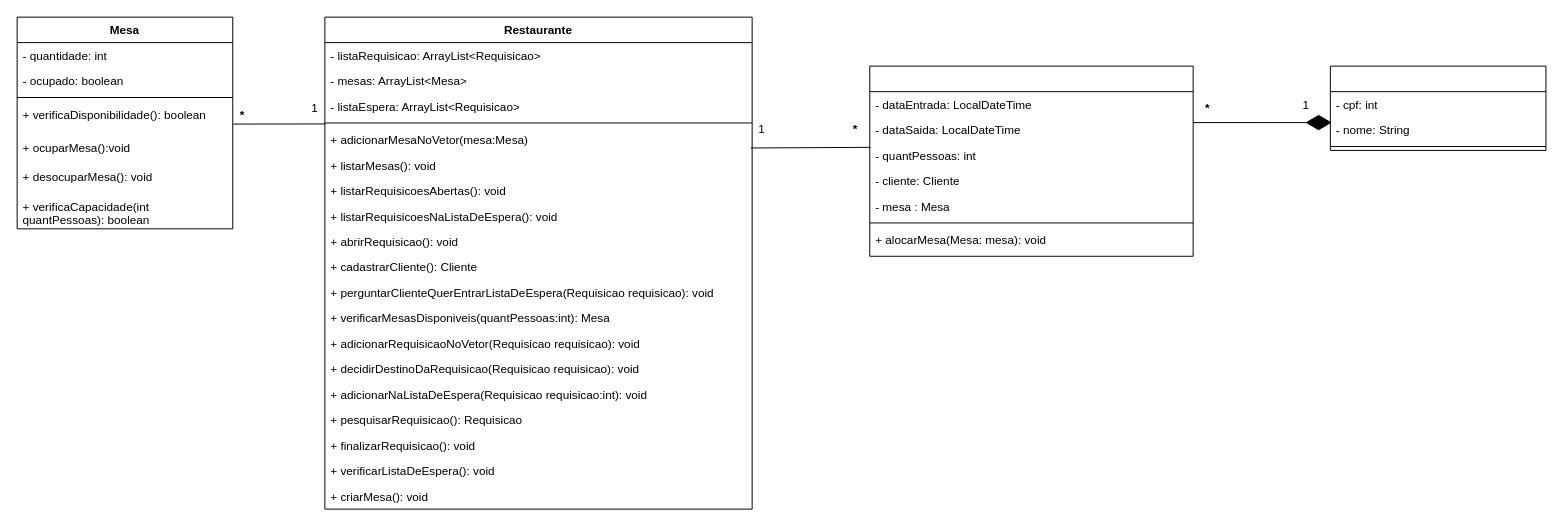
This 1563x529 diagram has some shape labels left out. Here are the shapes that lost their labels. From the top down, the box of each, then its label:
(1329, 65, 1546, 150): Cliente
(869, 65, 1193, 256): Requisição
